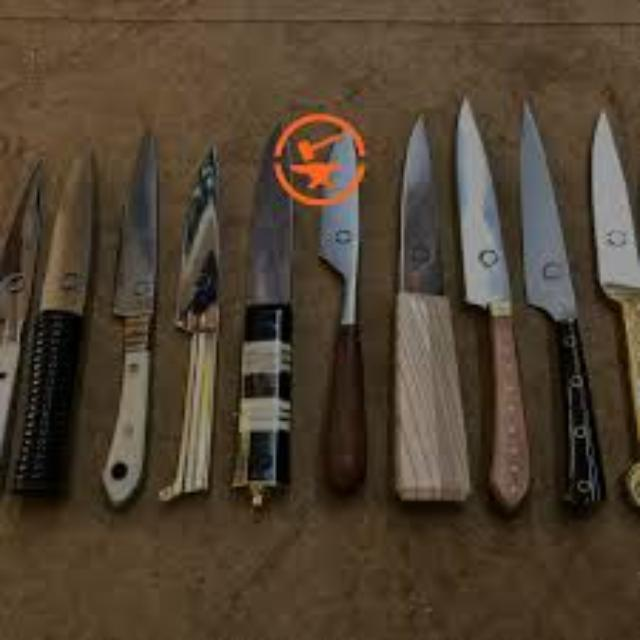Knife: (518, 94, 606, 510), (453, 94, 529, 512), (390, 112, 470, 500), (8, 146, 94, 494), (228, 116, 292, 518), (156, 142, 222, 500), (100, 131, 158, 509), (589, 109, 637, 512), (316, 130, 364, 492), (0, 157, 42, 498)
